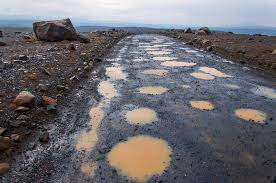pothole: (107, 134, 184, 181), (142, 41, 213, 67), (87, 68, 118, 124), (68, 129, 102, 179), (122, 102, 164, 127), (230, 102, 271, 127), (133, 82, 179, 97), (187, 69, 230, 83), (183, 96, 217, 113), (138, 69, 173, 77)
